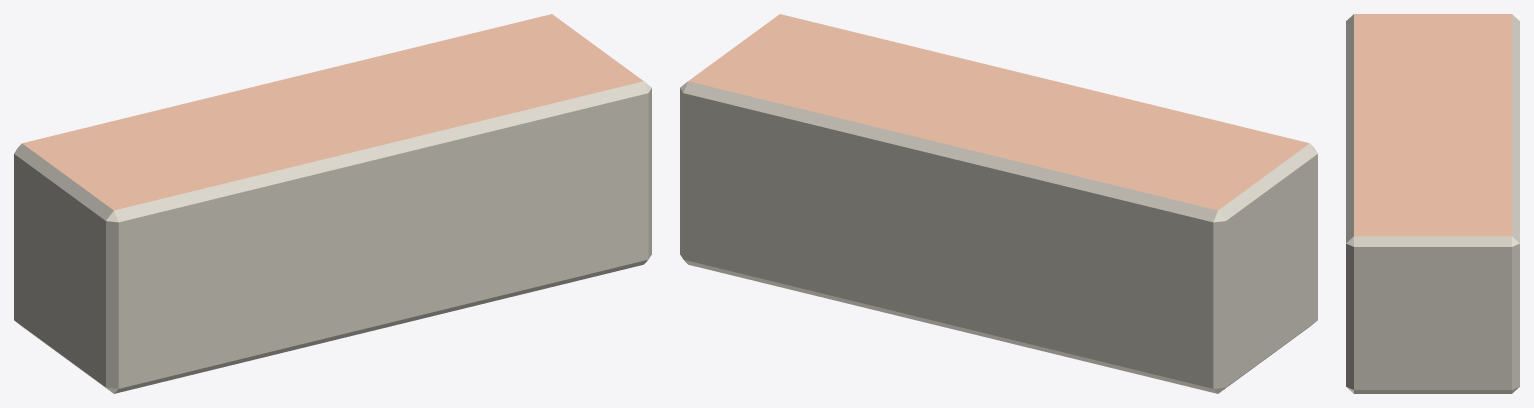
File: R4B_Beam3_LOD1.fbx
3 views of the same model, side by side, from view 1: azimuth 30°, elevation 25°; view 2: azimuth 150°, elevation 25°; view 3: azimuth 270°, elevation 25° (orthographic). The views are drawn at different scales.
Visible parts, largest first — view 1: R4B_Beam3_LOD1; view 2: R4B_Beam3_LOD1; view 3: R4B_Beam3_LOD1.
Boxes of the visible parts, x1=… form: R4B_Beam3_LOD1: x1=14, y1=14, x2=651, y2=393; R4B_Beam3_LOD1: x1=680, y1=14, x2=1317, y2=393; R4B_Beam3_LOD1: x1=1346, y1=14, x2=1519, y2=393.
Bounding box in the file's own units: 1.62 × 0.52 × 0.52.
